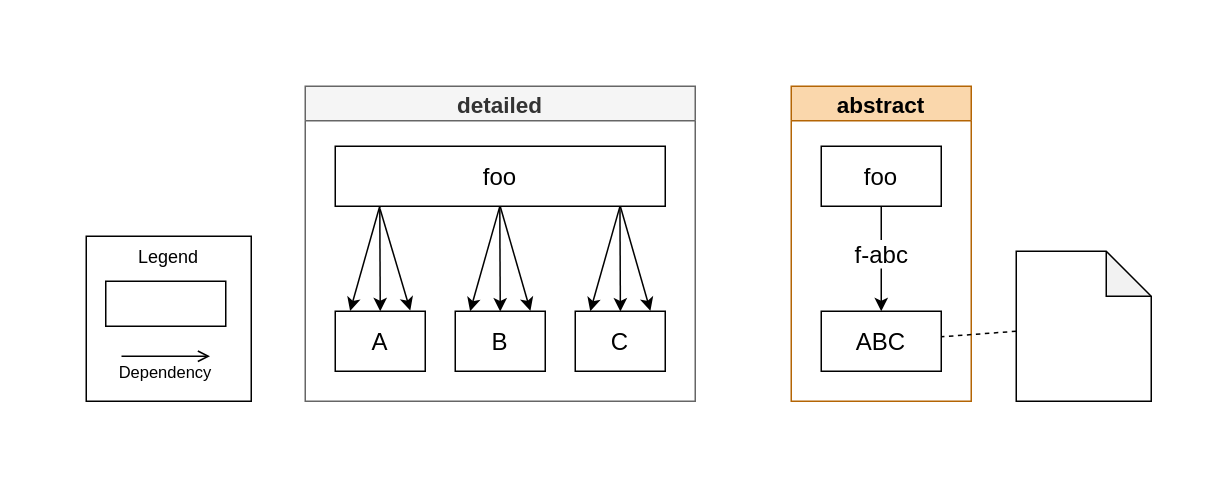
The diagram is 1206 pixels wide and 486 high, and some of its shapes have lost their labels. The shapes that lost their labels are listed below. From the top down, each one's centre as x and y in pixels, then its label:
(165,303): Component
(1083,325): ABC contains A and B and C
